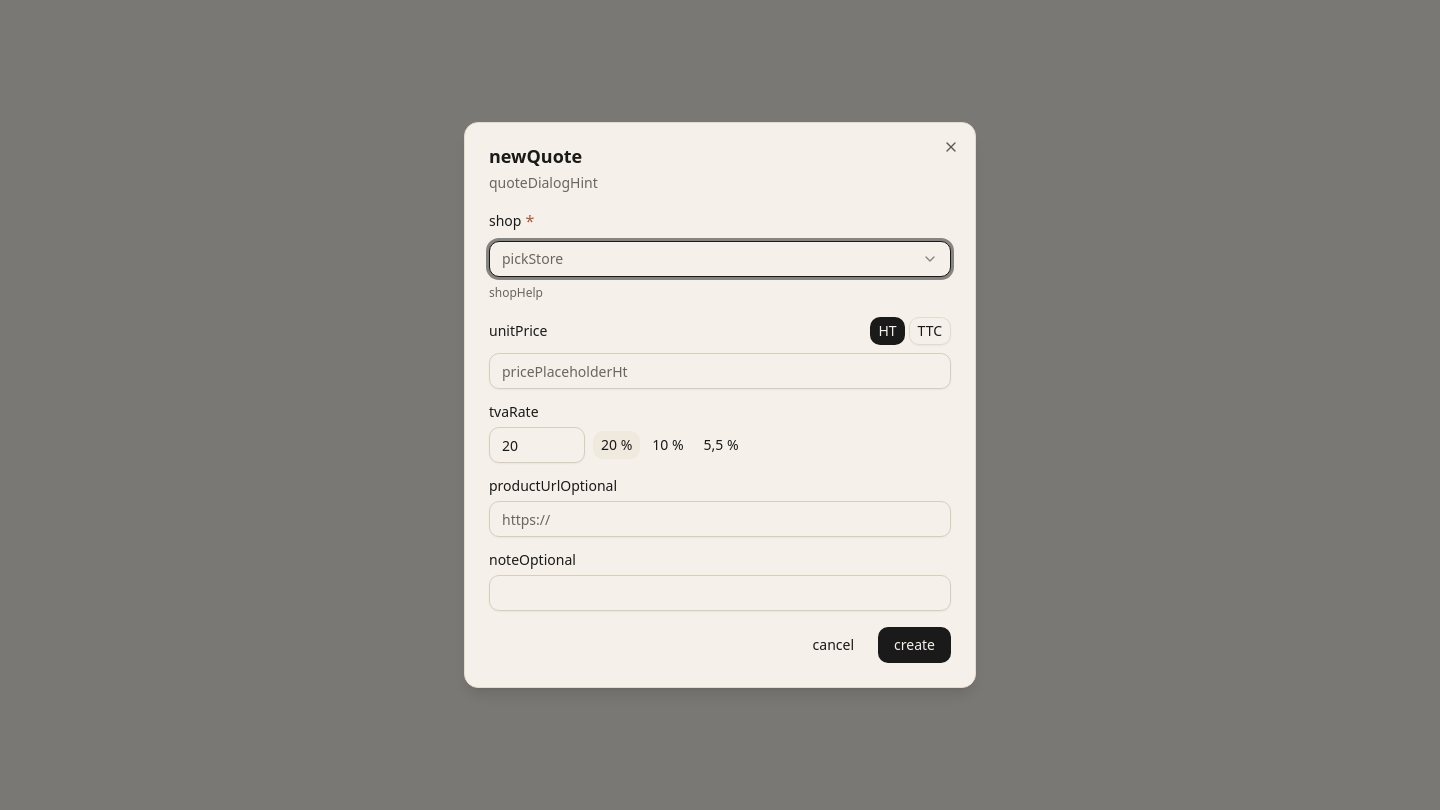
Test: QuoteFormDialog price cap › refuses an HT unit price above the API's cap
The width and height of the screenshot is (1440, 810).
Click the button with test id "store-select-trigger" at [533, 258], box [489,241,951,277]
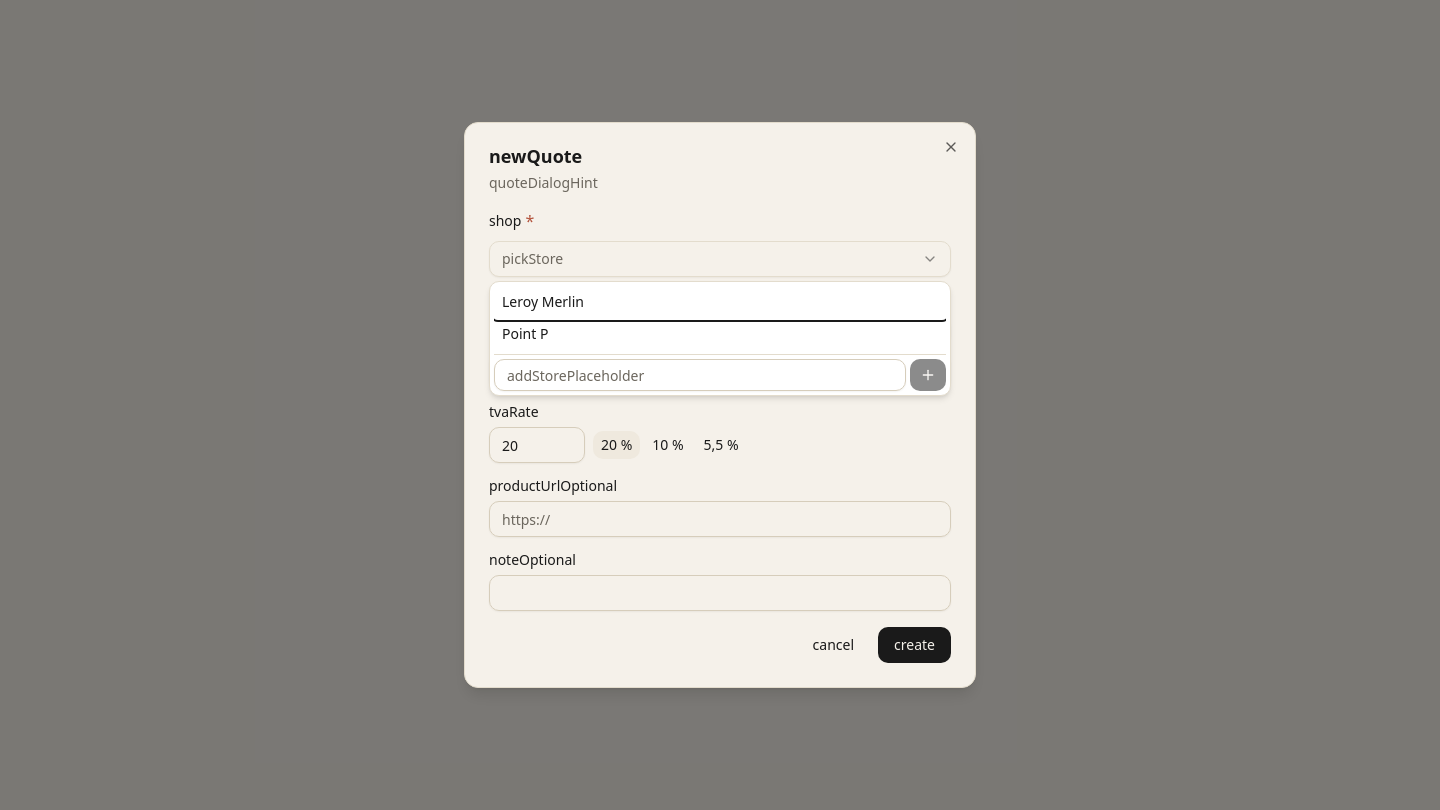
Click the button "Leroy Merlin" at [543, 302], box [494,286,946,318]
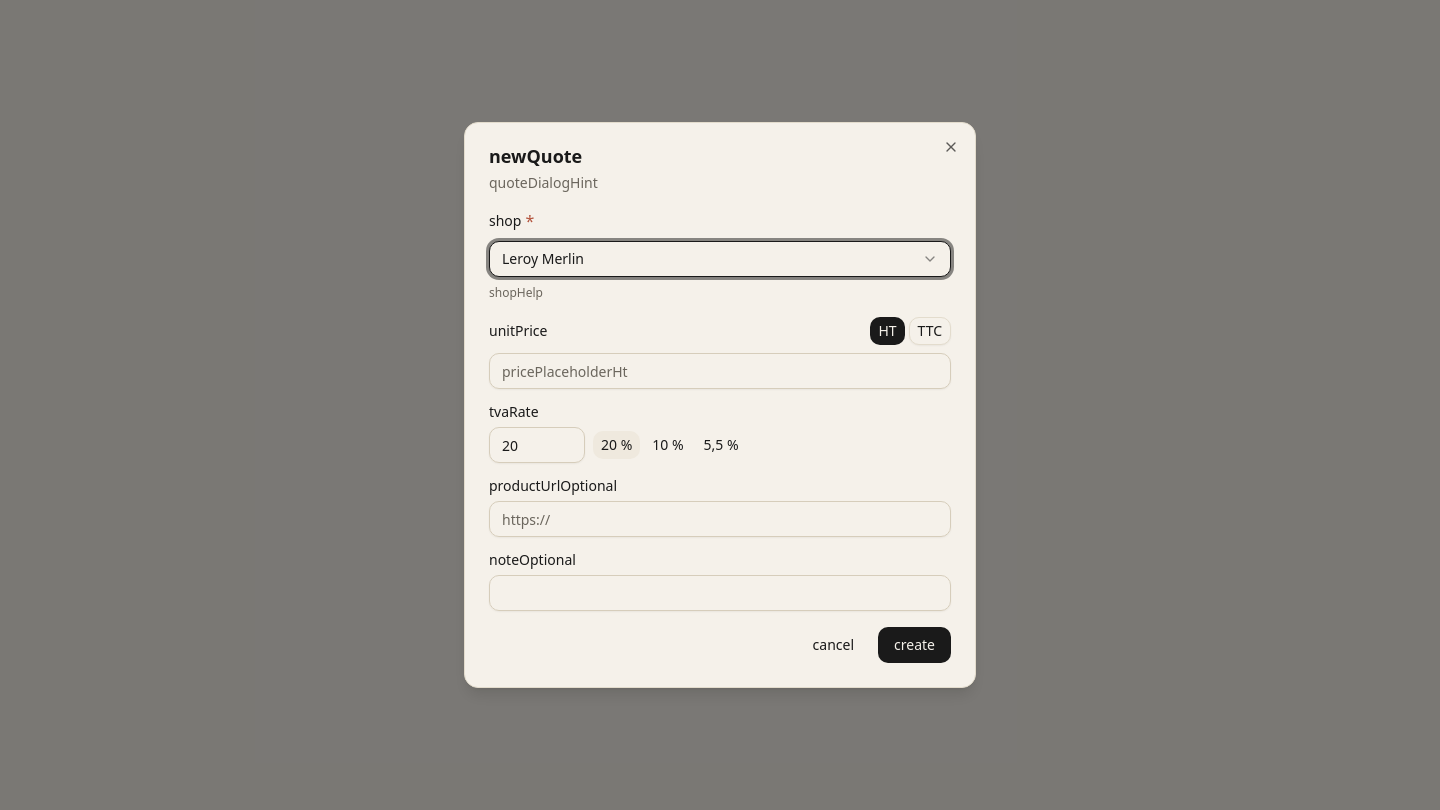
Type "100000000" into the field labelled "unitPrice" at [720, 371], box [489,353,951,389]
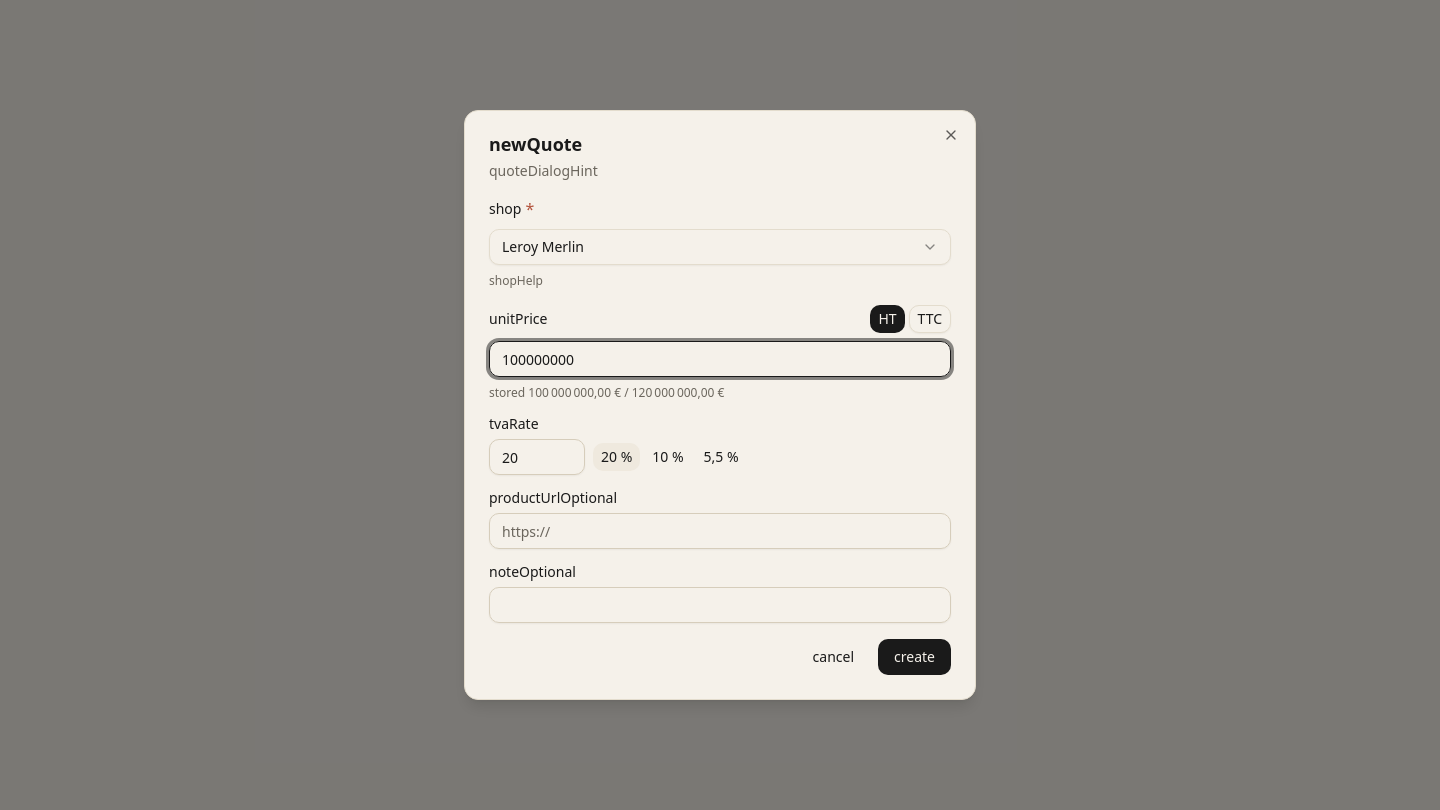
Click the button "create" at [915, 657], box [878,639,951,675]
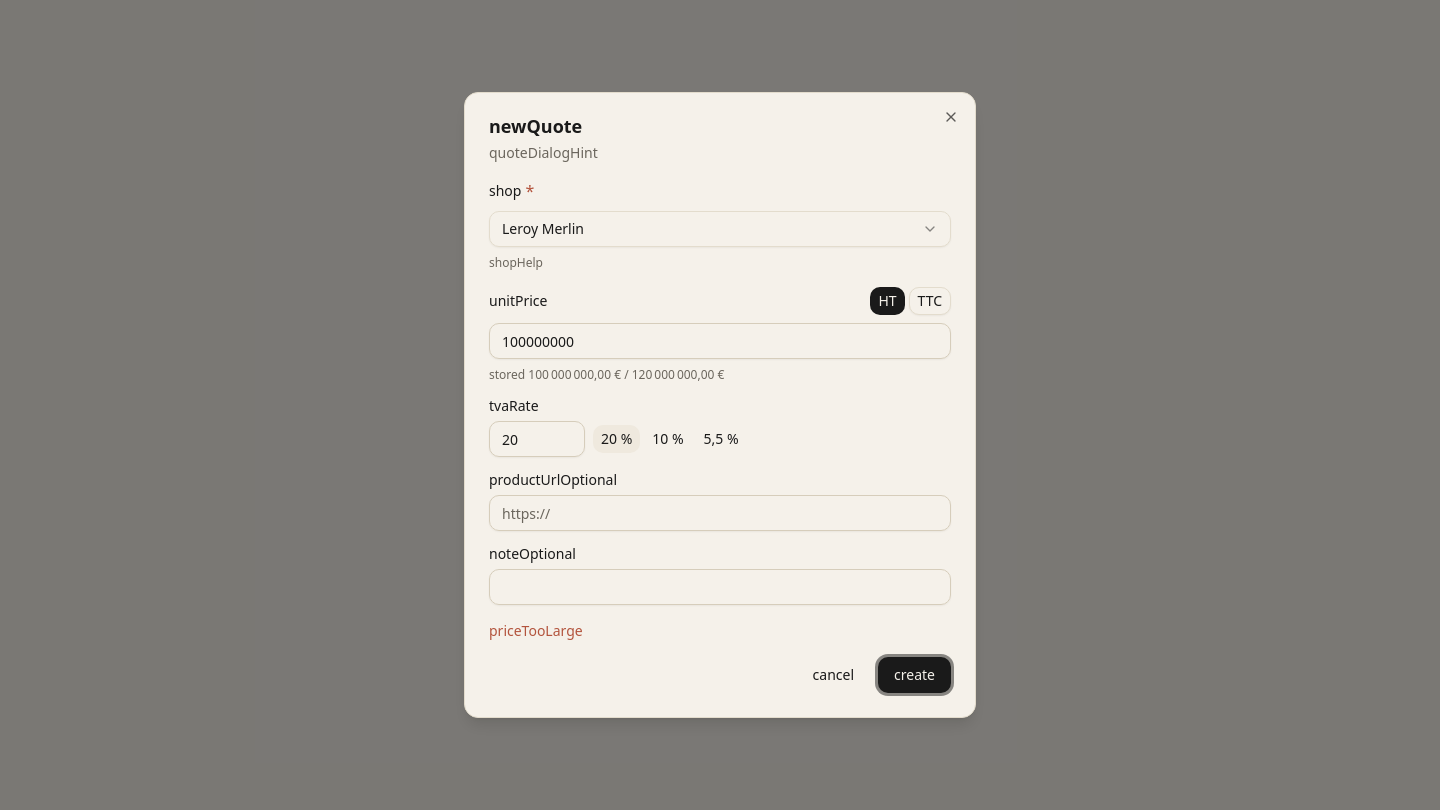
Check: the text "priceTooLarge" is shown, box [489,621,583,640]
